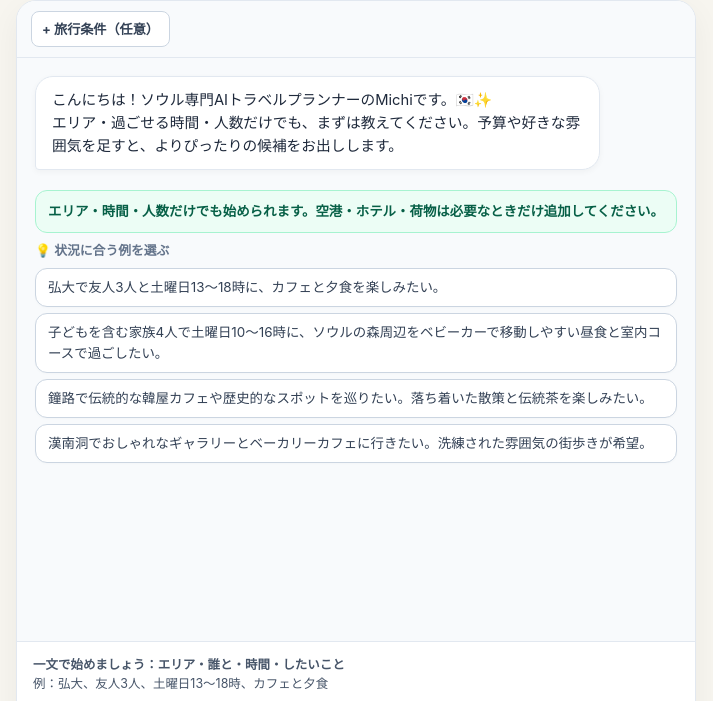
Test: GenerativeChatPlanner › renders a one-sentence start before optional travel conditions
Expected: the text "エリア・時間・人数だけでも始められます。空港・ホテル・荷物は必要なときだけ追加してください。" is shown, 35,190 -> 677,233
Click the button "+ 旅行条件（任意）". click: x=100, y=29
box: 31,11 -> 170,47
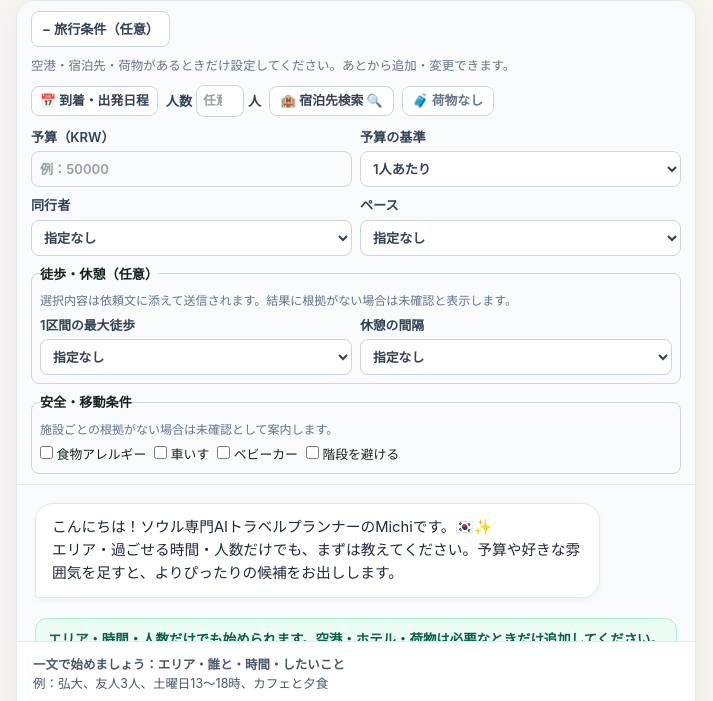
Now the button "📅 到着・出発日程" is shown, box 31,86 -> 158,116
Now the button "🧳 荷物なし" is shown, box 402,86 -> 494,116
Now the button "🏨 宿泊先検索 🔍" is shown, box 269,86 -> 394,116
